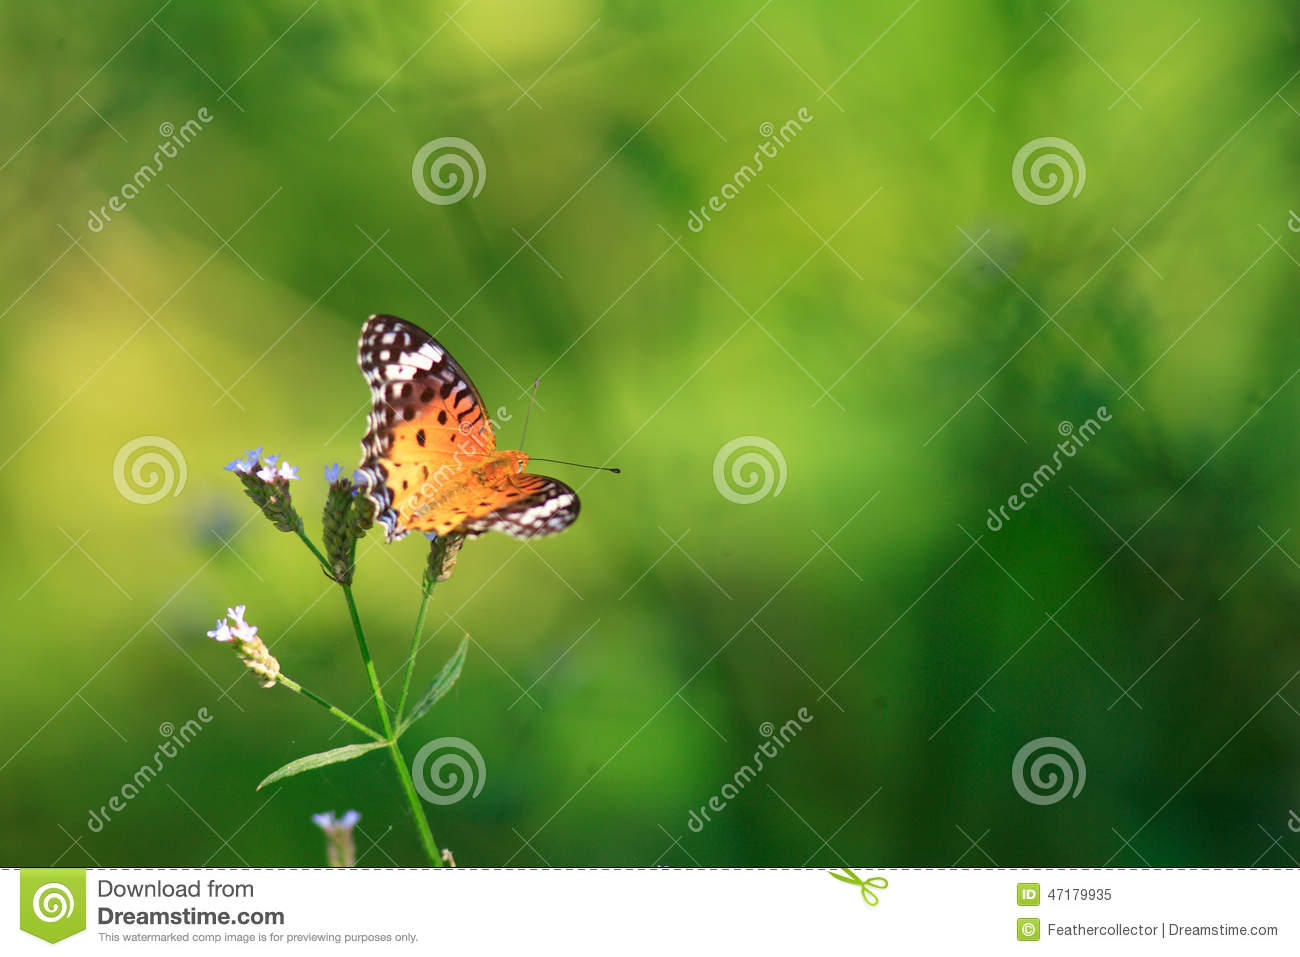Argyreus hyperbius: (354, 309, 639, 553)
butterfly: (356, 311, 641, 555)
